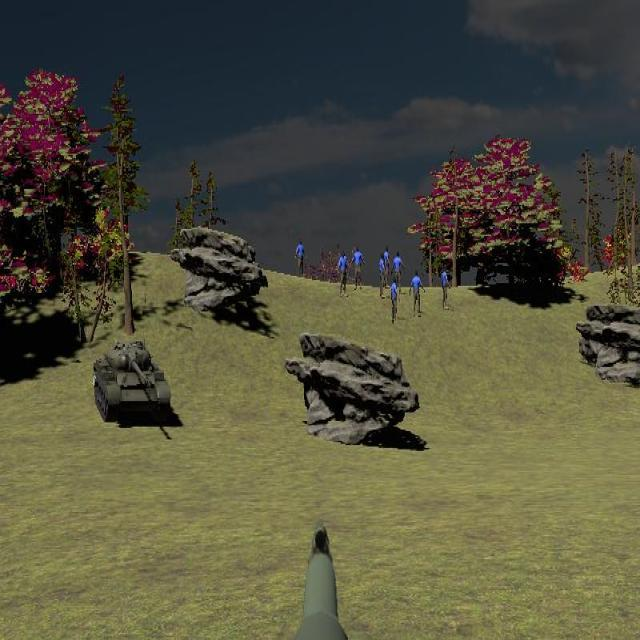Human: (409, 269, 425, 316), (350, 246, 365, 291), (337, 250, 350, 297), (391, 250, 404, 295), (295, 238, 306, 280)
Tank: (92, 340, 171, 425)
